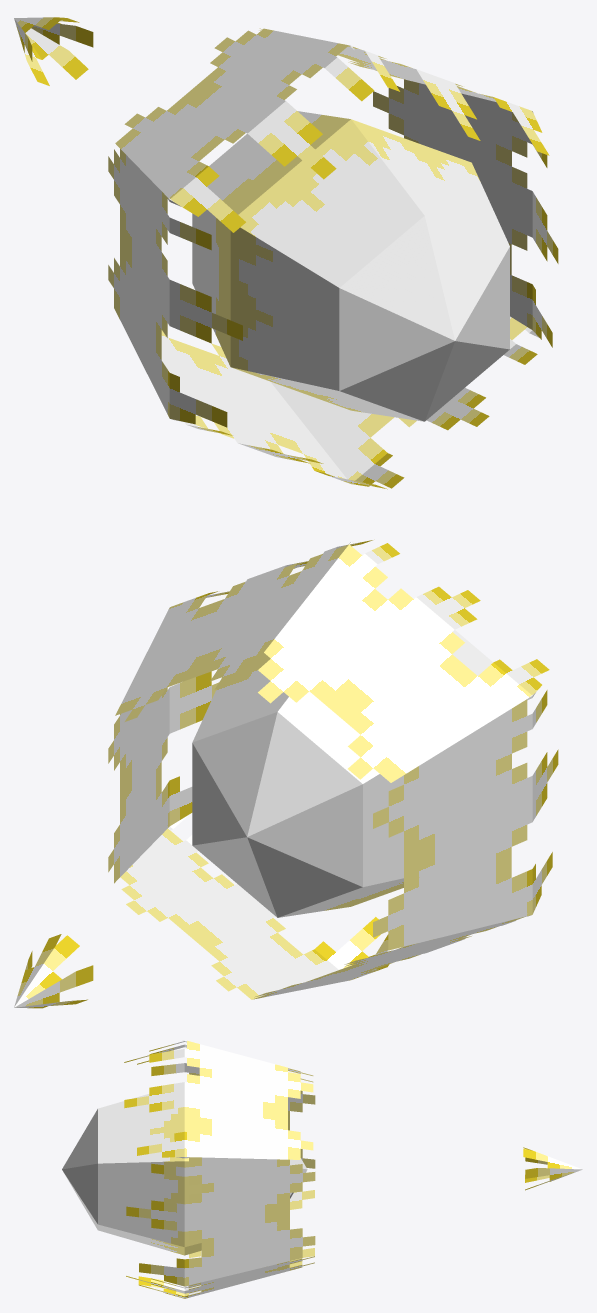
The model's file is Lemon.fbx.
3 views of the same model, one above another, from view 1: azimuth 30°, elevation 25°; view 2: azimuth 150°, elevation 25°; view 3: azimuth 270°, elevation 25° (orthographic). The views are drawn at different scales.
Visible parts, largest first — view 1: Lemon; view 2: Lemon; view 3: Lemon.
Part boxes in pixels (x1,y1,x2,y2): Lemon: (14,17,558,489); Lemon: (14,540,558,1008); Lemon: (62,1040,582,1298).
Size of the model in its own units: 30.6 by 35.33 by 70.37.
